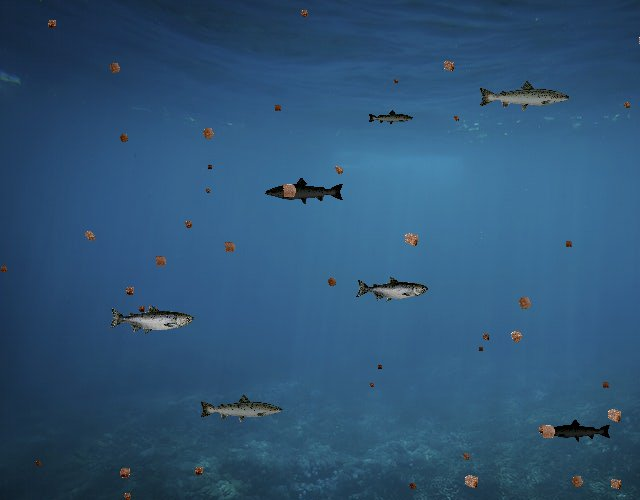Fish: (477, 80, 571, 113), (198, 393, 284, 424), (108, 304, 194, 335), (264, 177, 345, 206), (355, 276, 428, 303), (544, 418, 612, 442), (367, 109, 414, 126)
Pellet: (512, 290, 538, 316), (504, 324, 529, 349), (78, 225, 100, 247), (478, 330, 492, 344), (202, 186, 212, 196)
